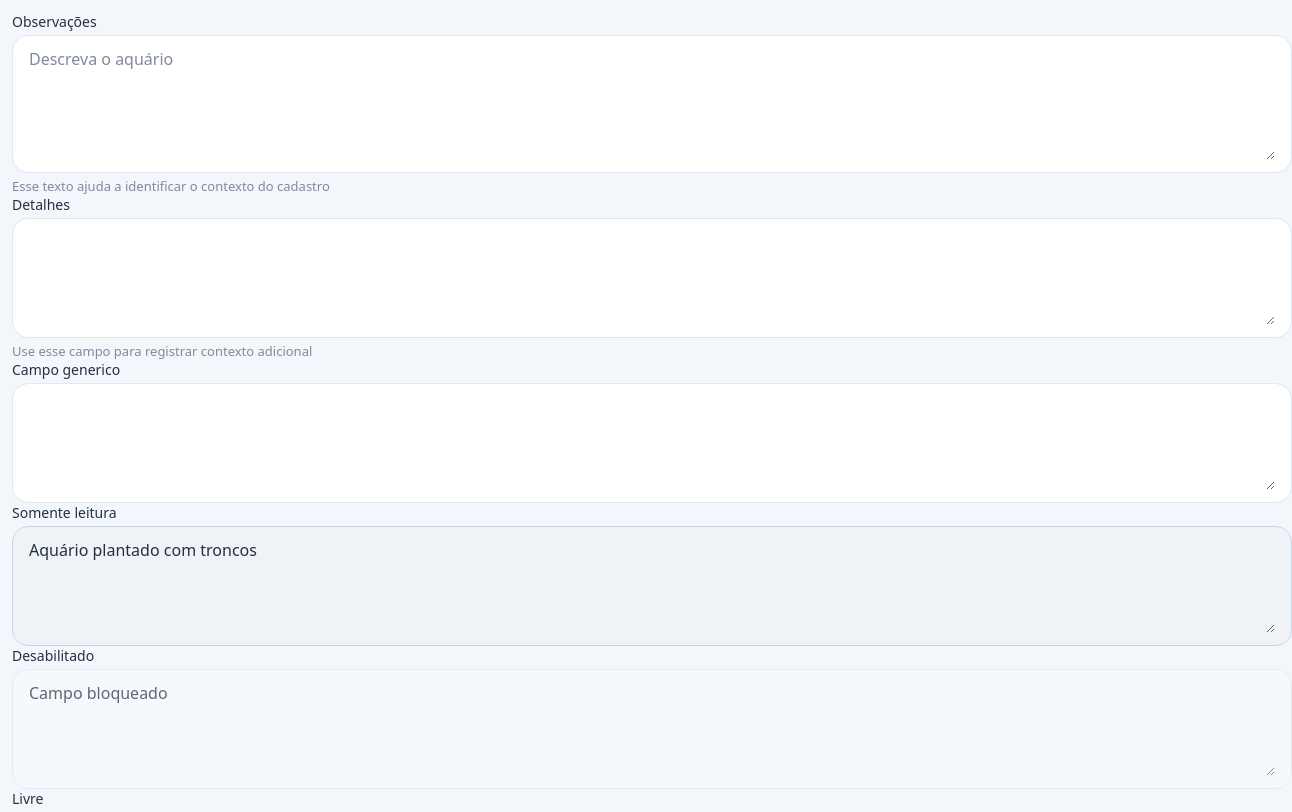
Scenario: TextareaFormfieldComponent › should add the focused class while the textarea has focus
Focus the text box with class "textarea-formfield__input" showing "Observações". click: coordinates (652, 104)
box: [29,48,1275,160]
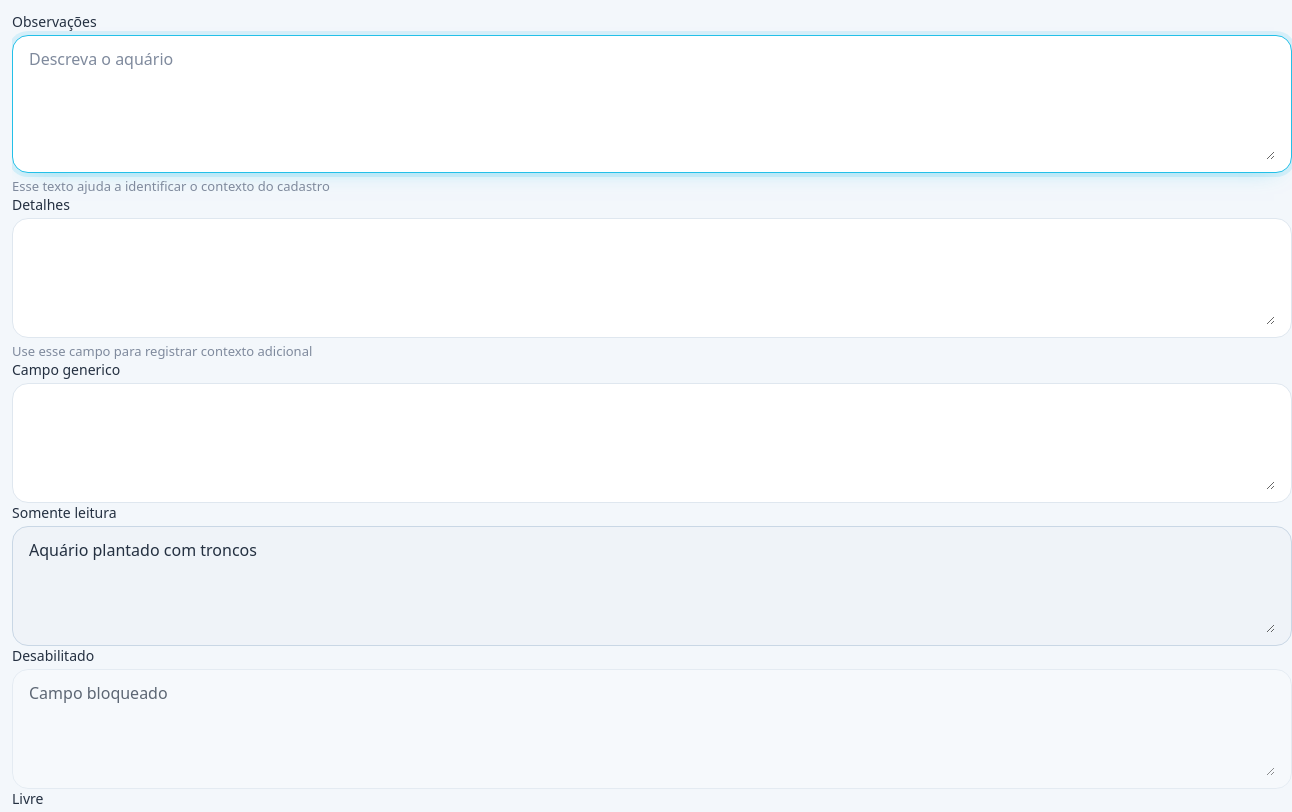
Expected: the element with class "textarea-formfield--focused" is shown, [12,12,1291,195]
